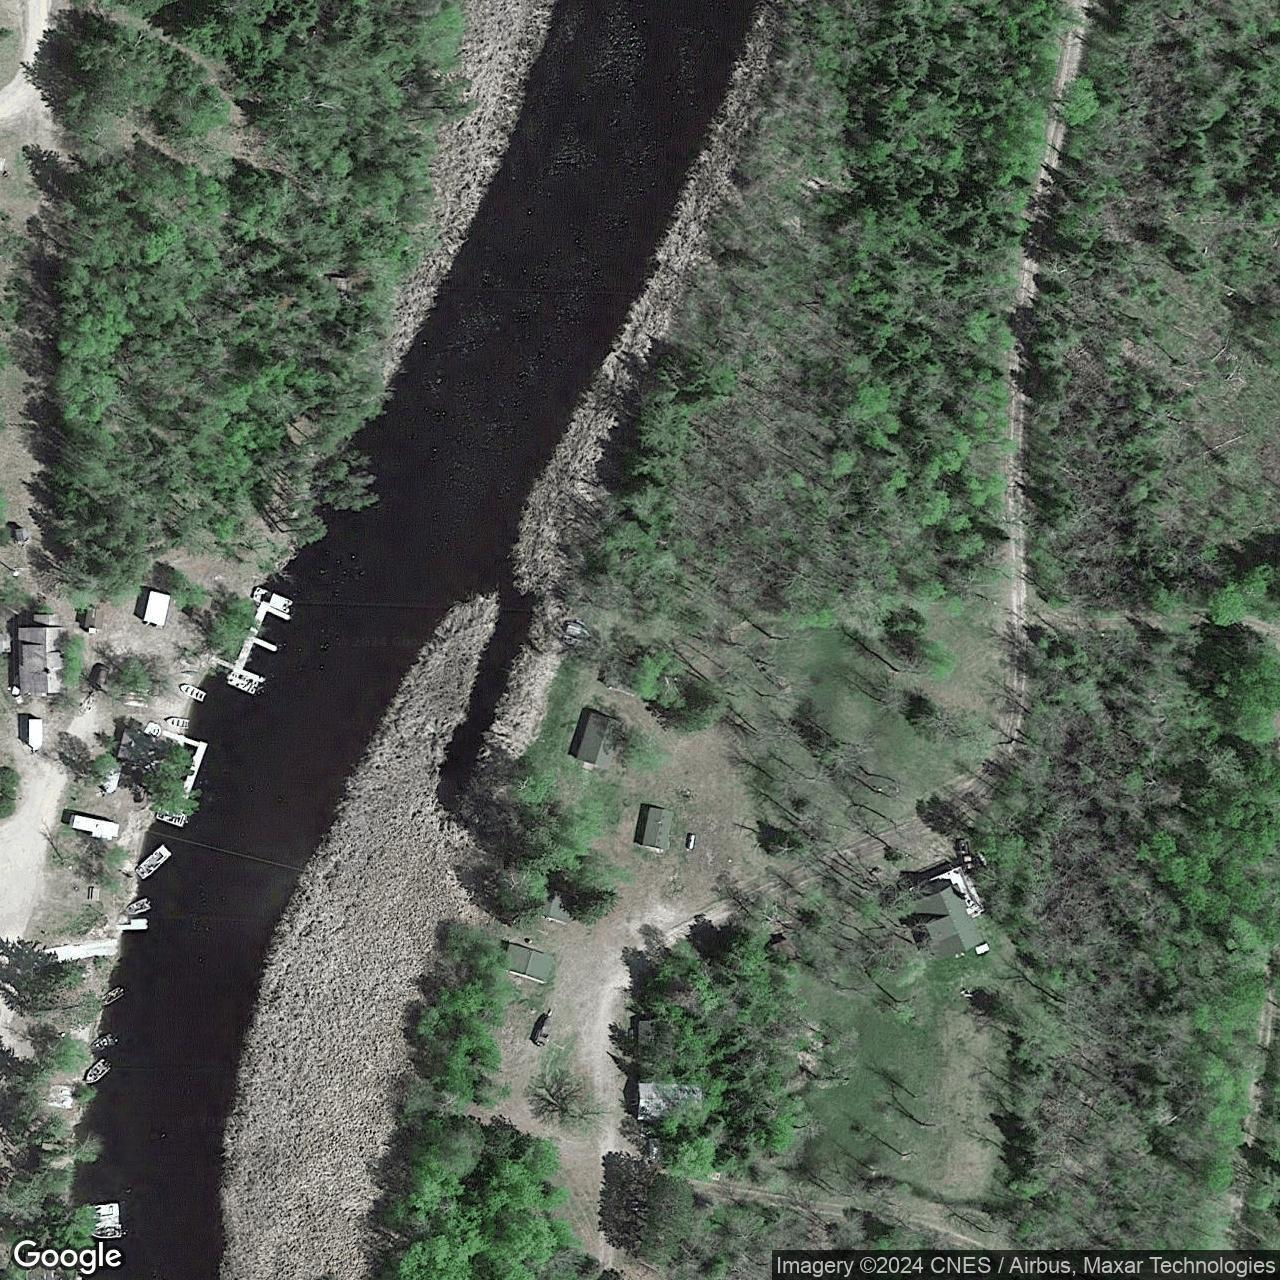Garage: (574, 712, 622, 770), (638, 1082, 702, 1121), (499, 941, 553, 985), (533, 890, 578, 927), (641, 806, 674, 851)
House: (904, 881, 987, 962), (15, 613, 68, 696), (115, 726, 172, 776)
Propane: (685, 832, 696, 851)
Trailer: (69, 815, 120, 840)
